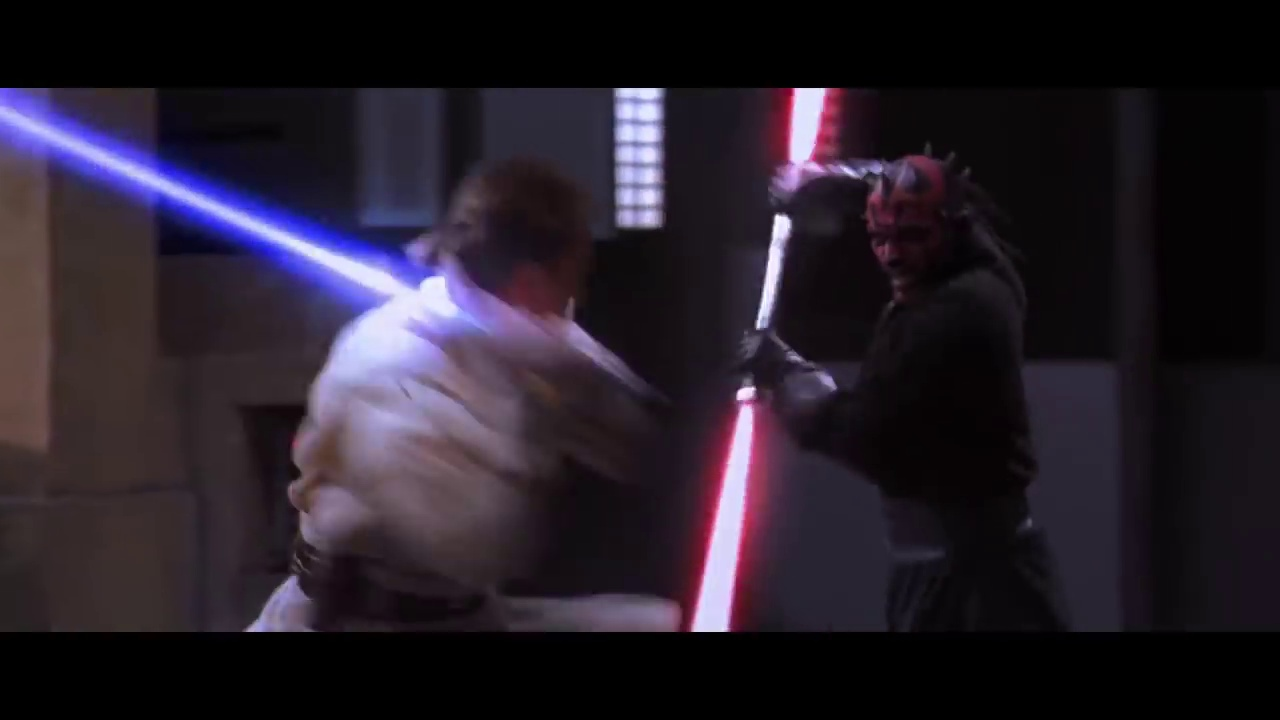lightsaber: (1, 88, 440, 316), (686, 86, 841, 634)
